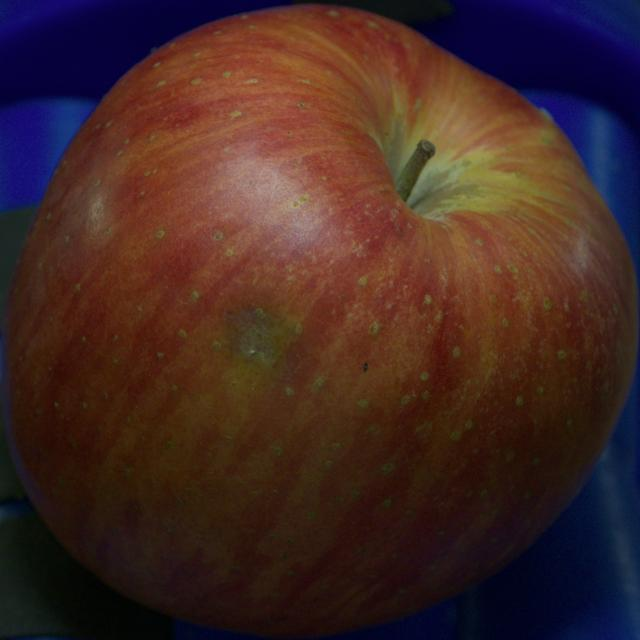apple: (2, 6, 639, 638), (364, 362, 368, 371)
bruise: (216, 306, 313, 385)
